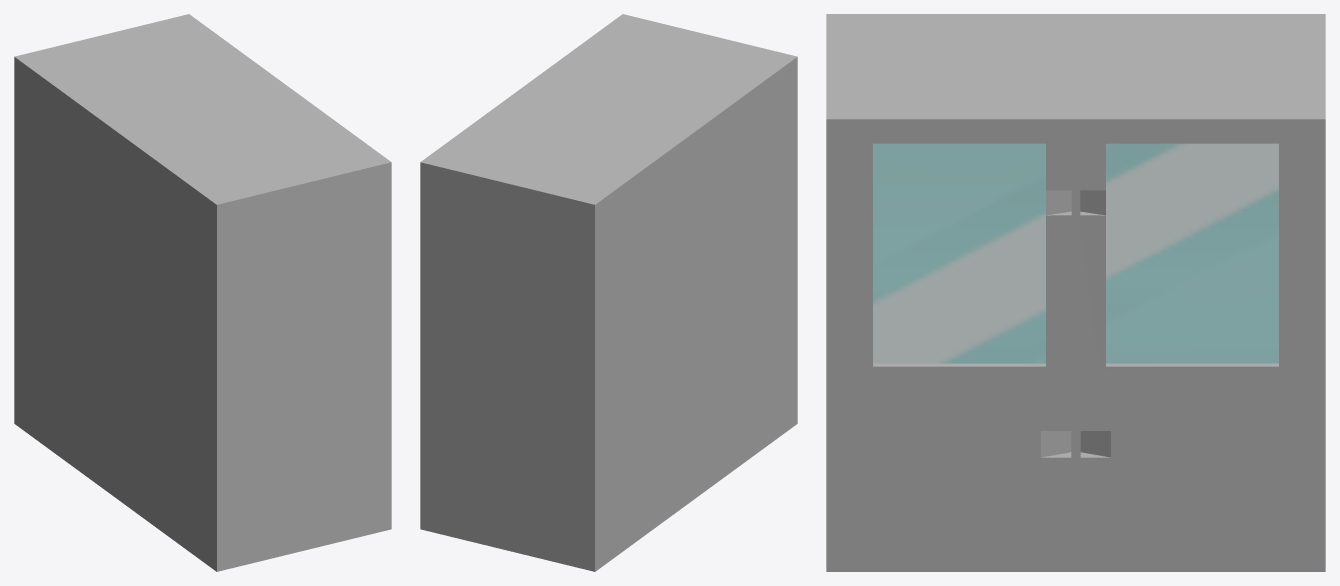
Rendered from Props_Shelf_01.fbx.
3 renders of one model, left to right at view 1: azimuth 30°, elevation 25°; view 2: azimuth 150°, elevation 25°; view 3: azimuth 270°, elevation 25°, orthographic. The views are drawn at different scales.
Parts seen in each view (by area): view 1: Props_Shelf_01; view 2: Props_Shelf_01; view 3: Props_Shelf_01.
Part boxes in pixels (box(x1,y1,x2,y2)): Props_Shelf_01: box(14, 14, 391, 571); Props_Shelf_01: box(420, 14, 797, 571); Props_Shelf_01: box(826, 14, 1325, 571).
Size of the model in its own units: 100 by 200 by 200.
